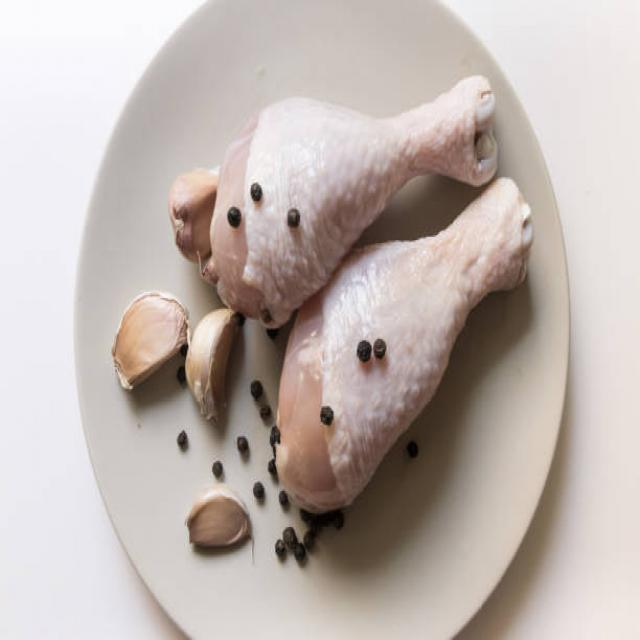chicken wing: (288, 184, 538, 503), (205, 67, 498, 249)
garlic: (106, 286, 184, 394), (190, 305, 241, 426), (179, 488, 256, 555)
